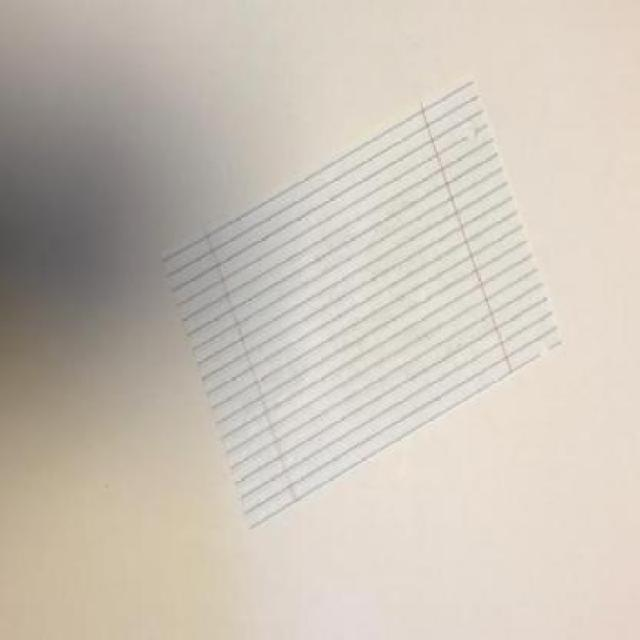PAPER: (160, 68, 563, 530)
